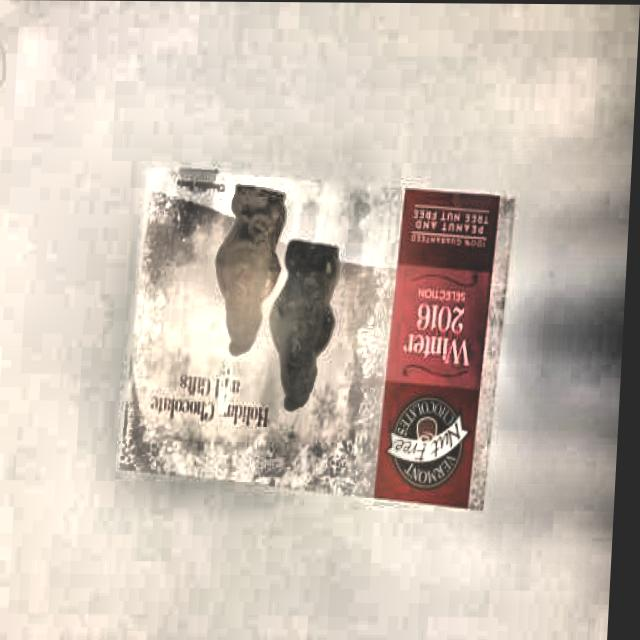Paper: (109, 152, 525, 526)
